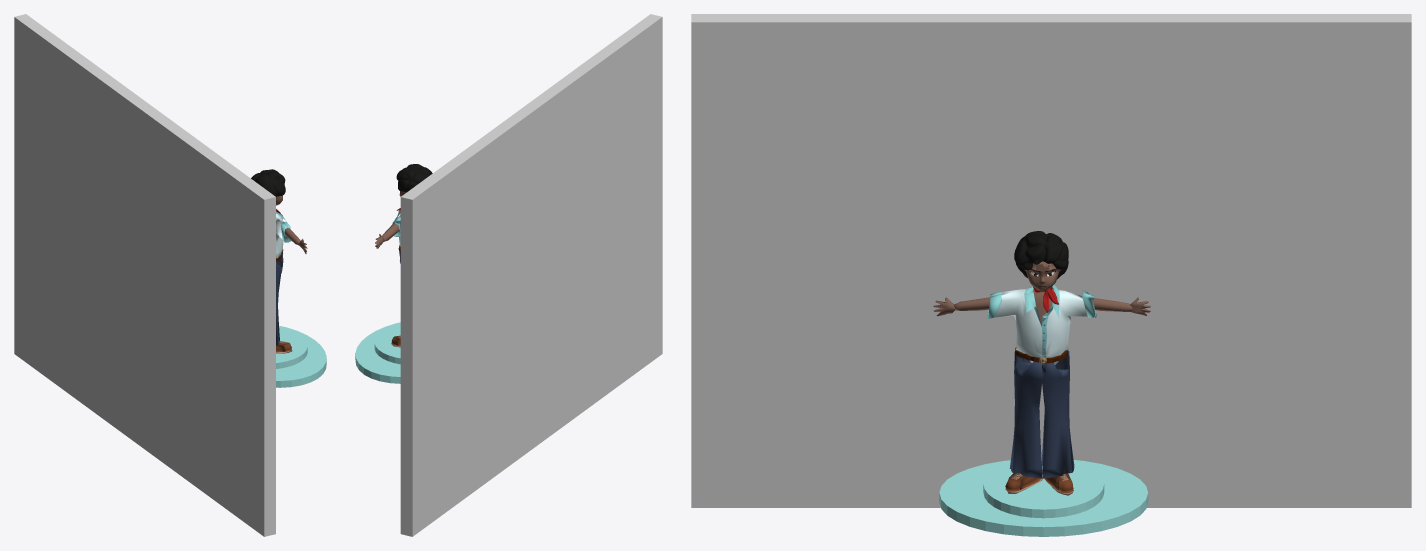
Rendered from joe.glb.
3 views of the same model, side by side, from view 1: azimuth 30°, elevation 25°; view 2: azimuth 150°, elevation 25°; view 3: azimuth 270°, elevation 25° (orthographic). The views are drawn at different scales.
Visible parts, largest first — view 1: Cube.007, Cylinder.001, Torus; view 2: Cube.007, Cylinder.001, Torus; view 3: Cube.007, Torus, Cylinder.001.
Boxes of the visible parts, left/top/right/bottom form: Cube.007: left=14, top=14, right=275, bottom=536; Cylinder.001: left=276, top=325, right=326, bottom=387; Torus: left=251, top=169, right=307, bottom=353; Cube.007: left=400, top=14, right=662, bottom=536; Cylinder.001: left=355, top=322, right=400, bottom=383; Torus: left=375, top=164, right=432, bottom=347; Cube.007: left=691, top=14, right=1411, bottom=507; Torus: left=933, top=231, right=1150, bottom=495; Cylinder.001: left=939, top=458, right=1148, bottom=536.
Size of the model in its own units: 2.6 by 4.85 by 6.52.
